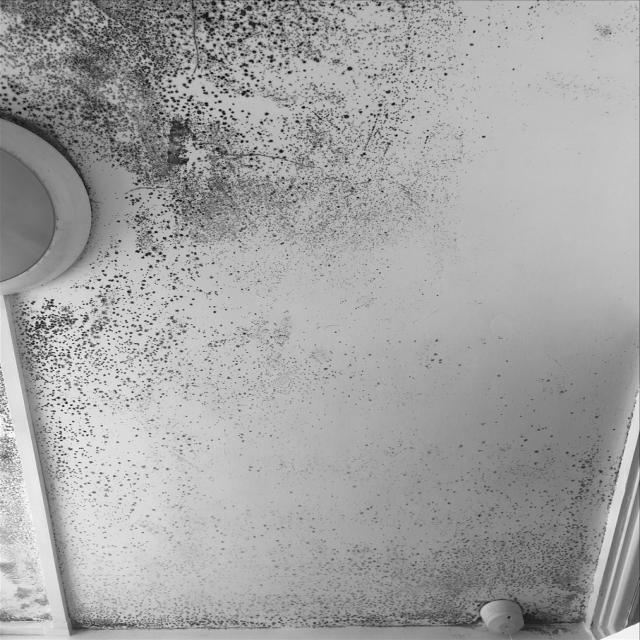stain marks: (0, 294, 635, 634), (0, 1, 499, 300), (501, 0, 640, 127)
